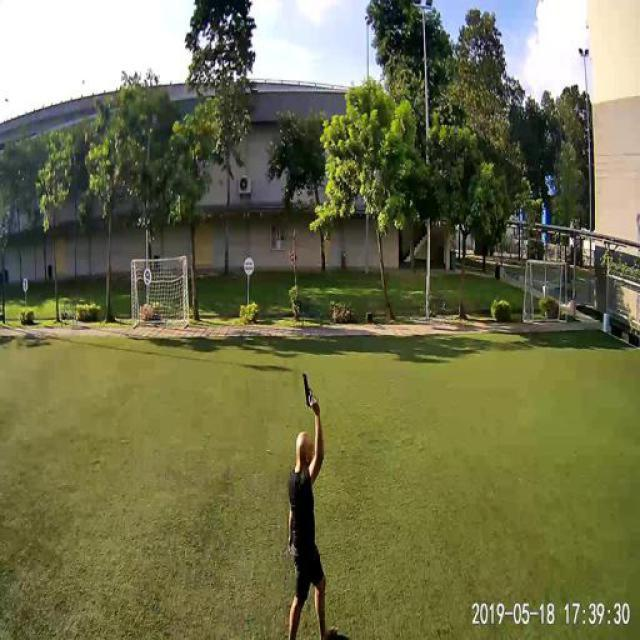weapon: (299, 372, 320, 411)
